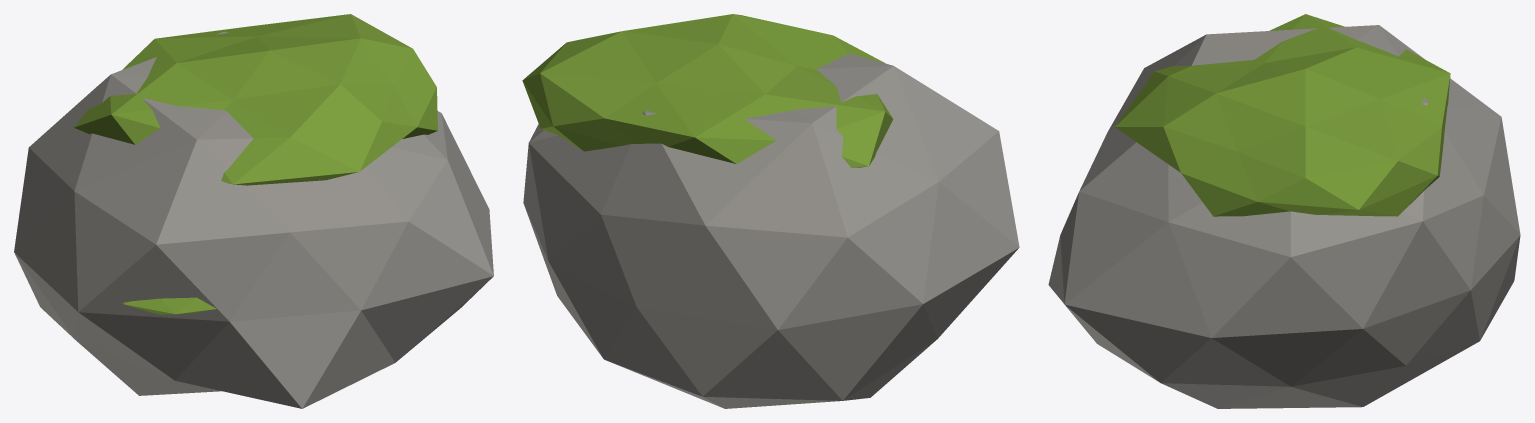
File: Rock_Mossy.fbx
The picture shows the model from 3 angles, left to right: view 1: azimuth 30°, elevation 25°; view 2: azimuth 150°, elevation 25°; view 3: azimuth 270°, elevation 25°; orthographic projection. The views are drawn at different scales.
Parts seen in each view (by area): view 1: Rock_Mossy; view 2: Rock_Mossy; view 3: Rock_Mossy.
Part boxes in pixels (x1,y1,x2,y2): Rock_Mossy: [14, 14, 493, 408]; Rock_Mossy: [522, 14, 1019, 408]; Rock_Mossy: [1048, 14, 1520, 408].
Bounding box in the file's own units: 1.71 × 1.28 × 1.6.
